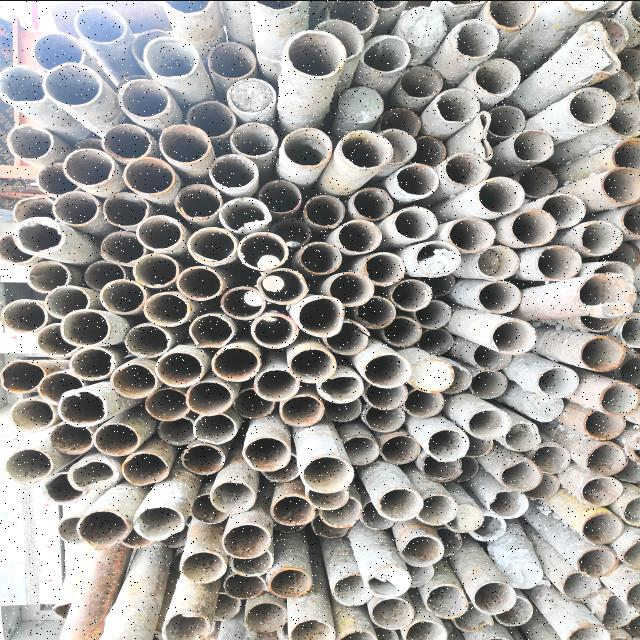pipe: (284, 29, 348, 78), (42, 61, 102, 106), (578, 274, 640, 314), (585, 16, 625, 74), (117, 78, 171, 117), (146, 36, 198, 76), (236, 230, 288, 270), (312, 18, 364, 58), (282, 126, 334, 165), (299, 456, 355, 492), (132, 503, 188, 539), (74, 4, 126, 42), (340, 130, 392, 168), (321, 0, 379, 34), (13, 216, 66, 253), (362, 34, 411, 74), (160, 124, 210, 163), (218, 196, 272, 232), (298, 296, 344, 338), (400, 5, 446, 47), (63, 149, 113, 187), (186, 100, 236, 138), (188, 228, 238, 266), (451, 18, 501, 56), (101, 123, 152, 160), (32, 33, 84, 69), (61, 308, 110, 346), (76, 510, 130, 544), (7, 122, 55, 160), (474, 57, 522, 95), (0, 63, 45, 103), (59, 388, 109, 424), (154, 351, 204, 387), (443, 151, 491, 188), (4, 447, 52, 484), (570, 86, 615, 125), (288, 347, 338, 382), (125, 157, 173, 193), (228, 77, 276, 113), (231, 121, 279, 157), (209, 153, 257, 189), (211, 346, 259, 382), (250, 312, 298, 348), (480, 175, 526, 212), (492, 318, 538, 355), (256, 269, 306, 303), (208, 41, 255, 77), (101, 228, 148, 264), (144, 290, 191, 326), (337, 86, 384, 122), (449, 216, 496, 252), (353, 292, 397, 330), (2, 298, 48, 334), (0, 358, 46, 394), (36, 322, 82, 358), (100, 278, 146, 314), (137, 214, 183, 250), (110, 362, 156, 398), (297, 240, 343, 276), (512, 208, 558, 244), (328, 270, 374, 306), (92, 422, 142, 455), (102, 191, 150, 225), (278, 393, 326, 427), (538, 194, 586, 228), (363, 354, 411, 388), (222, 524, 270, 558), (399, 64, 444, 100), (580, 336, 626, 371), (242, 438, 292, 470), (176, 184, 223, 218), (178, 267, 225, 301), (189, 314, 236, 348), (323, 320, 370, 354), (144, 388, 192, 421), (258, 179, 302, 215), (302, 192, 346, 228), (590, 66, 634, 102), (338, 217, 382, 253), (39, 372, 85, 406), (132, 252, 178, 286), (415, 241, 461, 275), (537, 244, 583, 278), (378, 484, 424, 518), (162, 610, 214, 640), (376, 128, 419, 164), (436, 88, 480, 123), (122, 452, 170, 484), (36, 162, 82, 195), (44, 285, 90, 318), (254, 366, 297, 401), (395, 205, 438, 240), (10, 399, 57, 431), (186, 382, 233, 414), (54, 190, 98, 224), (395, 162, 439, 196), (410, 358, 454, 392), (499, 457, 543, 491), (180, 550, 228, 581), (13, 195, 59, 227), (368, 597, 414, 629), (131, 28, 174, 62), (367, 563, 410, 597), (124, 326, 172, 356), (488, 0, 536, 30), (377, 108, 422, 140), (399, 534, 444, 566), (210, 482, 258, 512), (28, 260, 70, 294), (363, 252, 405, 286), (478, 280, 520, 314), (598, 382, 640, 416), (426, 584, 468, 618), (50, 422, 96, 453), (70, 459, 119, 488), (84, 258, 128, 290), (222, 286, 266, 318), (390, 278, 434, 310), (476, 246, 520, 278), (582, 408, 626, 440), (536, 365, 580, 397), (602, 167, 640, 204), (467, 408, 512, 439), (352, 187, 394, 220), (70, 348, 116, 378), (192, 413, 238, 443), (270, 494, 316, 524), (243, 602, 289, 632), (228, 546, 274, 576), (428, 428, 471, 460), (592, 262, 636, 293), (582, 512, 626, 543), (421, 451, 465, 482), (474, 583, 518, 614), (405, 134, 445, 168), (516, 129, 556, 163), (581, 221, 622, 254), (517, 164, 558, 197), (332, 574, 373, 607), (268, 567, 313, 597), (379, 314, 421, 346), (182, 442, 224, 474), (188, 492, 230, 524), (580, 476, 624, 506), (319, 497, 363, 527), (601, 594, 639, 628), (318, 374, 364, 402), (272, 216, 312, 248), (586, 442, 626, 474), (494, 595, 534, 627), (340, 434, 380, 466), (530, 443, 572, 473), (488, 488, 530, 518), (606, 98, 640, 135), (579, 302, 622, 331), (364, 381, 410, 408), (577, 546, 618, 576), (487, 104, 527, 134), (404, 386, 444, 416), (380, 434, 420, 464), (418, 494, 458, 524), (44, 473, 84, 503), (222, 572, 268, 598), (1, 232, 38, 264), (416, 266, 454, 297), (234, 390, 276, 418), (596, 242, 638, 270), (562, 571, 604, 599), (472, 343, 514, 371), (452, 602, 494, 630), (412, 298, 451, 328), (157, 414, 196, 444), (438, 362, 474, 394), (470, 369, 508, 399), (446, 501, 484, 531), (520, 471, 560, 499), (359, 501, 397, 530), (364, 406, 406, 432), (502, 562, 544, 588), (260, 454, 300, 481), (288, 618, 336, 640), (505, 422, 541, 451), (476, 109, 496, 160), (56, 514, 90, 544), (467, 514, 506, 540), (529, 394, 565, 422), (398, 558, 434, 586), (323, 396, 362, 421), (304, 487, 350, 508), (456, 432, 493, 457), (403, 620, 449, 640), (612, 138, 640, 170), (311, 514, 348, 538), (118, 524, 154, 548), (155, 524, 191, 548), (417, 329, 452, 353), (432, 530, 462, 557), (564, 623, 610, 640), (450, 456, 480, 482), (161, 0, 216, 14), (72, 137, 104, 161), (620, 532, 640, 568), (620, 206, 640, 237), (618, 356, 640, 384), (622, 314, 640, 346), (624, 494, 640, 524)
